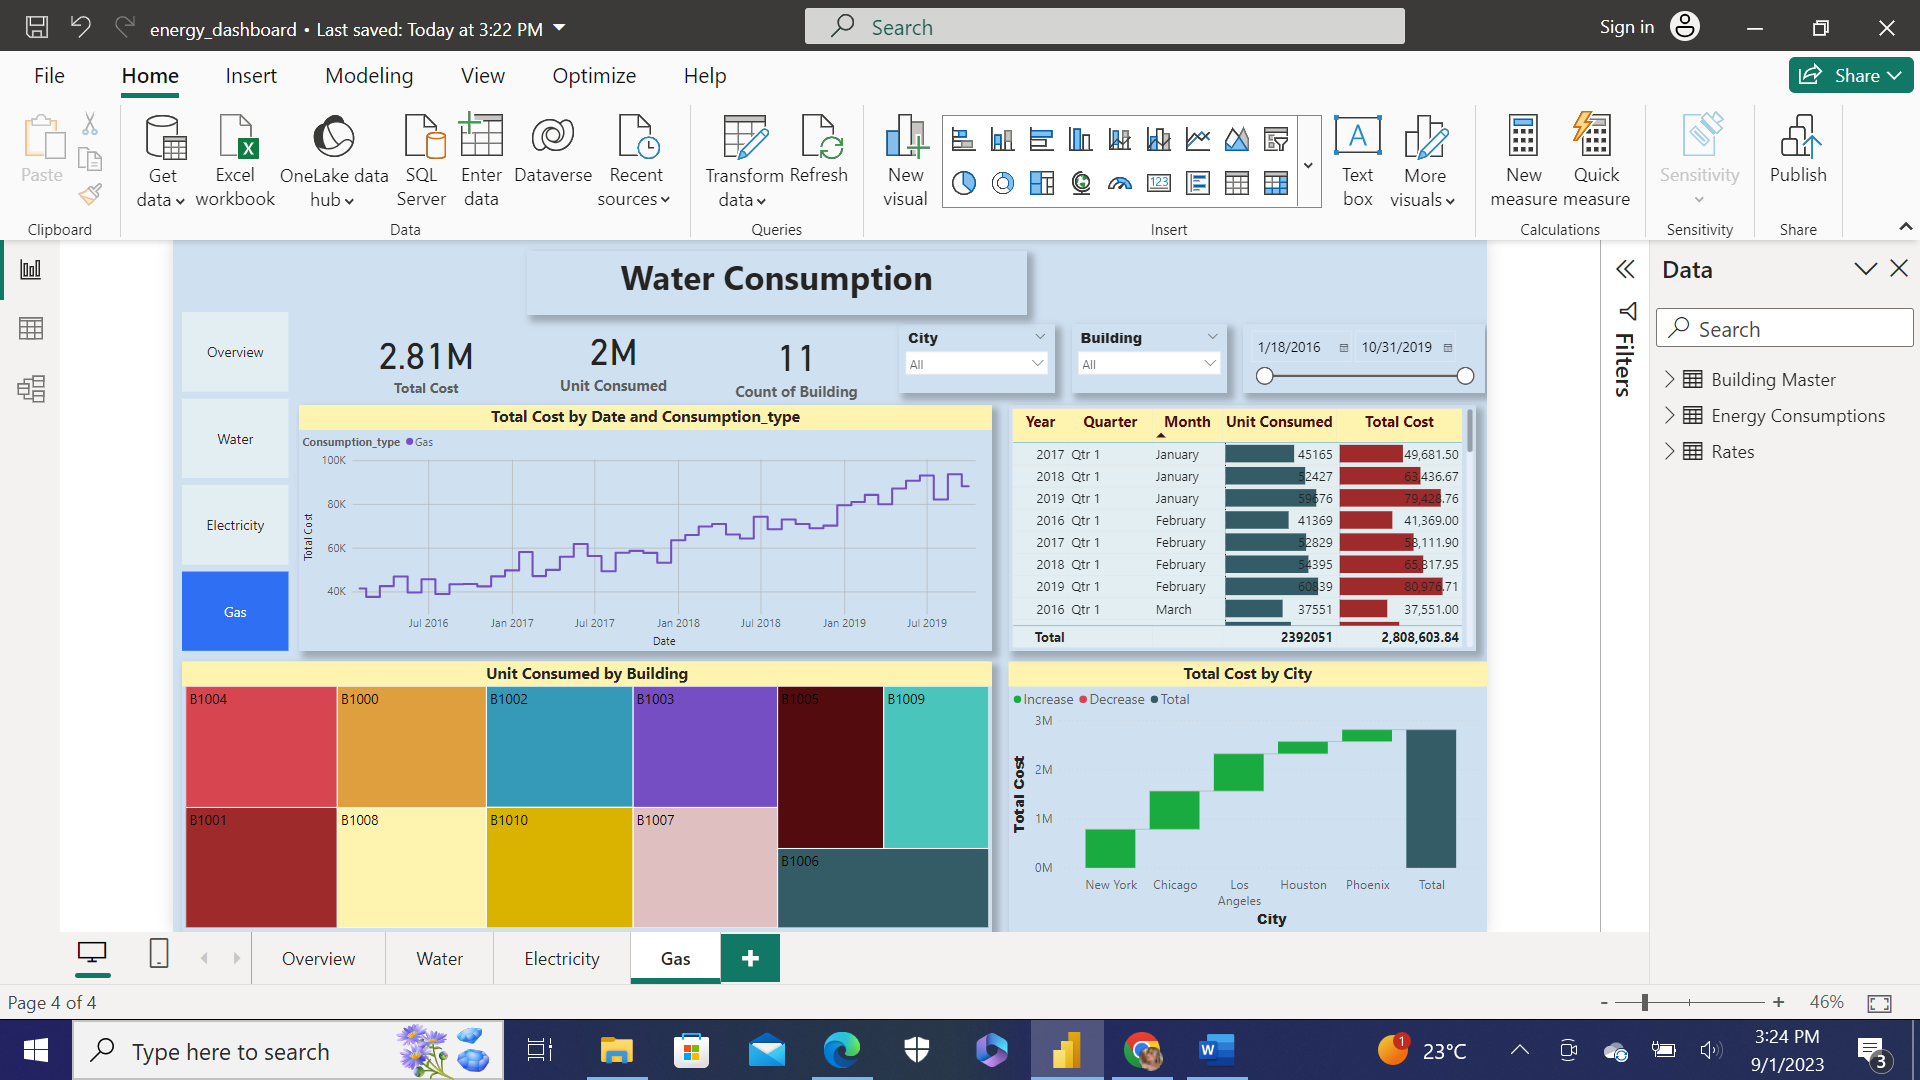

What the dashboard file says about the page in this screenshot:
{"tool":"powerbi","page":{"name":"Gas","canvas":[1900,1000],"ordinal":3},"visuals":[{"type":"lineChart","fields":{"Category":["Energy Consumptions.Date"],"Y":["Energy Consumptions.Total Cost"],"Series":["Energy Consumptions.Consumption_type"]},"box":[182.2,238.6,1002.2,355.7],"z":0},{"type":"waterfallChart","fields":{"Category":["Building Master.City"],"Y":["Energy Consumptions.Total Cost"]},"box":[1208.2,609.5,692,390.5],"z":1000},{"type":"treemap","fields":{"Values":["Energy Consumptions.Unit Consumed"],"Group":["Energy Consumptions.Building"]},"box":[13,609.5,1171.4,390.5],"z":2000},{"type":"tableEx","fields":{"Values":["Energy Consumptions.Date.Variation.Date Hierarchy.Year","Energy Consumptions.Date.Variation.Date Hierarchy.Quarter","Energy Consumptions.Date.Variation.Date Hierarchy.Month","Energy Consumptions.Unit Consumed","Energy Consumptions.Total Cost"]},"box":[1208.2,238.6,676.8,355.7],"z":3000},{"type":"card","fields":{"Values":["Energy Consumptions.Total Cost"]},"box":[240.8,108.5,250,130.2],"z":4000},{"type":"card","fields":{"Values":["Energy Consumptions.Unit Consumed"]},"box":[511.9,104.1,249.5,130.2],"z":5000},{"type":"slicer","fields":{"Values":["Energy Consumptions.Building"]},"box":[1298.3,122.2,225,100],"z":6000},{"type":"slicer","fields":{"Values":["Building Master.City"]},"box":[1049.9,122.2,225,100],"z":7000},{"type":"slicer","fields":{"Values":["Energy Consumptions.Date"]},"box":[1546.6,122.2,350,100],"z":8000},{"type":"pageNavigator","box":[13,104.1,154,490.2],"z":9000},{"type":"actionButton","title":"Water Consumption","box":[511.9,15.2,722.3,93.3],"z":10000},{"type":"card","fields":{"Values":["Count(Building Master.Building)"]},"box":[776.6,117.1,249.5,121.5],"z":11000}]}

Visuals, with their boxes on the page's 1900x1000 design canvas (x1, y1, x2, y2). These are canvas units, not pixel positions in the 1920x1080 screenshot, which may show the page scaled, cropped or inside an application window:
lineChart - Energy Consumptions.Date x Energy Consumptions.Total Cost: 182, 239, 1184, 594
waterfallChart - Building Master.City x Energy Consumptions.Total Cost: 1208, 610, 1900, 1000
treemap - Energy Consumptions.Unit Consumed x Energy Consumptions.Building: 13, 610, 1184, 1000
tableEx - Energy Consumptions.Date.Variation.Date Hierarchy.Year x Energy Consumptions.Date.Variation.Date Hierarchy.Quarter: 1208, 239, 1885, 594
card - Energy Consumptions.Total Cost: 241, 108, 491, 239
card - Energy Consumptions.Unit Consumed: 512, 104, 761, 234
slicer - Energy Consumptions.Building: 1298, 122, 1523, 222
slicer - Building Master.City: 1050, 122, 1275, 222
slicer - Energy Consumptions.Date: 1547, 122, 1897, 222
pageNavigator: 13, 104, 167, 594
"Water Consumption" actionButton: 512, 15, 1234, 108
card - Count(Building Master.Building): 777, 117, 1026, 239
